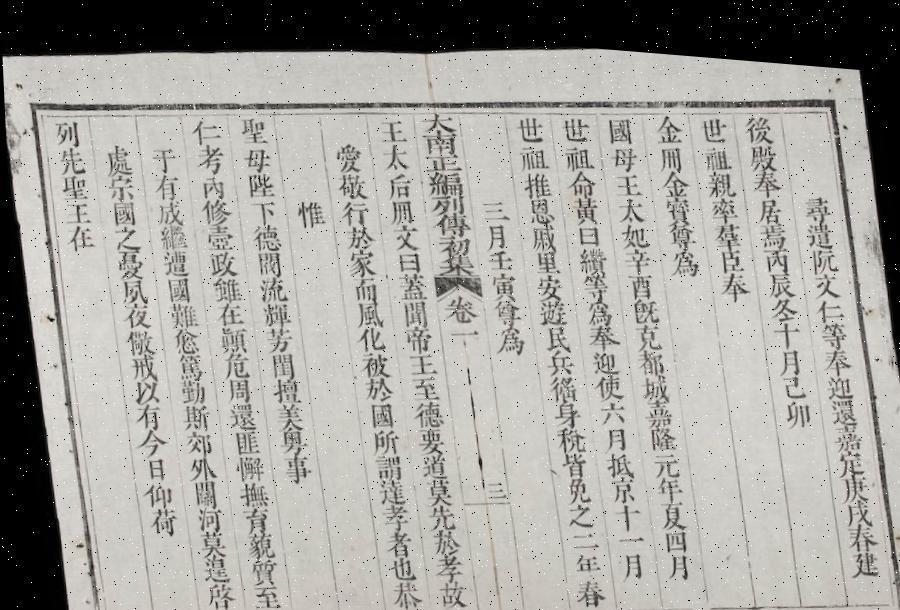c: (438, 285, 478, 320), (421, 162, 466, 193), (428, 203, 471, 234), (99, 140, 134, 178), (329, 134, 365, 170), (418, 122, 460, 152), (566, 566, 603, 600), (432, 244, 476, 272), (190, 138, 225, 173), (428, 570, 464, 604), (290, 192, 326, 226), (382, 571, 418, 605), (740, 100, 776, 134), (406, 392, 444, 424), (490, 316, 525, 350), (650, 101, 684, 136), (714, 258, 749, 292), (234, 110, 269, 144), (140, 503, 176, 536), (60, 221, 96, 254), (572, 235, 608, 268), (375, 135, 411, 168), (408, 418, 445, 450), (196, 578, 233, 610), (746, 156, 784, 187), (416, 102, 458, 130), (52, 144, 86, 178), (342, 242, 376, 276), (512, 104, 546, 138), (110, 247, 145, 280), (274, 448, 310, 480), (832, 458, 868, 490), (826, 408, 862, 440), (270, 421, 306, 453), (130, 425, 166, 457), (839, 507, 875, 539), (842, 534, 878, 566), (251, 270, 287, 302), (246, 218, 282, 250), (212, 321, 248, 353), (816, 332, 852, 364), (556, 104, 592, 136), (186, 112, 222, 144), (633, 362, 669, 394), (363, 420, 399, 452), (236, 527, 273, 558), (580, 313, 618, 343), (567, 186, 601, 219), (662, 208, 697, 240), (637, 388, 672, 420), (611, 185, 646, 217), (392, 264, 427, 296), (199, 218, 234, 250), (174, 399, 209, 431), (744, 130, 779, 162), (221, 397, 256, 429), (373, 109, 409, 140), (404, 367, 440, 398), (162, 298, 198, 329), (230, 475, 266, 506), (514, 135, 550, 166), (257, 321, 293, 352), (777, 384, 810, 417), (651, 487, 684, 520), (488, 289, 522, 321), (234, 501, 268, 533), (268, 396, 302, 428), (702, 157, 736, 189), (238, 140, 272, 172), (416, 468, 450, 500), (241, 552, 275, 584), (708, 208, 742, 240), (518, 161, 552, 193), (155, 244, 189, 276), (398, 318, 432, 350), (798, 178, 832, 210), (228, 448, 262, 480), (813, 304, 847, 336), (659, 184, 693, 216), (216, 346, 250, 378), (55, 172, 90, 203), (367, 446, 402, 477), (644, 438, 679, 469), (119, 325, 154, 356), (123, 351, 158, 382), (137, 477, 172, 508), (196, 194, 231, 225), (336, 192, 371, 223), (588, 362, 623, 393), (241, 166, 276, 197), (800, 205, 835, 236), (422, 520, 458, 550), (424, 544, 460, 574), (559, 134, 595, 164), (549, 416, 585, 446), (354, 344, 390, 374), (616, 210, 649, 242), (170, 348, 203, 380), (612, 538, 644, 571), (148, 168, 181, 200), (666, 237, 699, 269), (543, 364, 576, 396), (485, 262, 518, 294), (751, 182, 784, 214), (576, 262, 610, 293), (190, 525, 224, 556), (194, 550, 228, 581), (373, 495, 407, 526), (656, 158, 690, 189), (534, 289, 568, 320), (628, 311, 662, 342), (598, 440, 632, 471), (48, 117, 82, 148), (546, 390, 580, 421), (333, 165, 367, 196), (631, 337, 665, 368), (830, 434, 865, 464), (116, 300, 151, 330), (202, 246, 237, 276), (206, 272, 241, 302), (605, 492, 640, 522), (356, 370, 392, 399), (176, 426, 212, 455), (382, 164, 414, 196), (378, 521, 410, 553), (604, 105, 636, 137), (523, 188, 555, 220), (146, 141, 178, 173), (696, 102, 728, 134), (387, 218, 420, 249), (103, 172, 136, 203), (768, 306, 802, 336), (641, 414, 675, 444), (370, 471, 404, 501), (127, 400, 161, 430), (412, 444, 446, 474), (154, 221, 188, 251), (564, 160, 598, 190), (704, 184, 738, 214), (585, 338, 619, 368), (609, 160, 643, 190), (166, 324, 200, 354), (762, 258, 796, 288), (579, 288, 613, 318), (180, 451, 214, 481), (401, 344, 436, 373), (419, 496, 454, 525), (209, 297, 244, 326), (265, 372, 300, 401), (351, 319, 386, 348), (564, 540, 600, 568), (426, 186, 466, 211), (362, 395, 394, 426), (184, 476, 216, 507), (187, 501, 220, 531), (107, 223, 140, 253), (823, 382, 856, 412), (602, 465, 635, 495), (250, 246, 283, 276), (699, 132, 732, 162), (606, 134, 639, 164), (619, 236, 652, 266), (807, 258, 840, 288), (540, 340, 573, 370), (530, 264, 563, 294), (225, 424, 258, 454), (172, 375, 206, 404), (114, 276, 148, 305), (476, 188, 510, 217), (126, 376, 160, 405), (648, 464, 682, 493), (592, 389, 626, 418), (340, 218, 374, 247), (58, 198, 92, 227), (256, 297, 290, 326), (818, 359, 852, 388), (809, 282, 844, 310), (558, 465, 589, 496), (480, 214, 511, 245), (152, 197, 184, 227), (626, 286, 658, 316), (396, 293, 428, 323), (350, 294, 382, 324), (538, 316, 570, 346), (262, 346, 294, 376), (526, 216, 558, 246), (758, 233, 791, 262), (837, 483, 870, 512), (806, 233, 839, 262), (244, 580, 278, 608), (754, 210, 788, 238), (442, 319, 480, 344), (772, 333, 802, 364), (653, 133, 684, 163), (554, 441, 586, 470), (658, 541, 690, 570), (160, 273, 192, 302), (764, 282, 797, 310), (420, 146, 462, 168), (244, 194, 277, 222), (432, 228, 472, 251), (562, 518, 597, 544), (596, 415, 627, 444), (346, 271, 378, 299), (560, 492, 592, 520), (380, 547, 412, 575), (622, 262, 654, 290), (195, 170, 227, 198), (712, 235, 744, 263), (528, 240, 560, 268), (218, 373, 250, 401), (106, 198, 136, 227), (385, 192, 415, 220), (482, 240, 514, 266), (570, 214, 602, 240), (136, 452, 164, 481), (775, 361, 805, 388), (656, 517, 686, 544), (391, 244, 422, 268), (609, 520, 643, 540), (478, 469, 504, 495)
